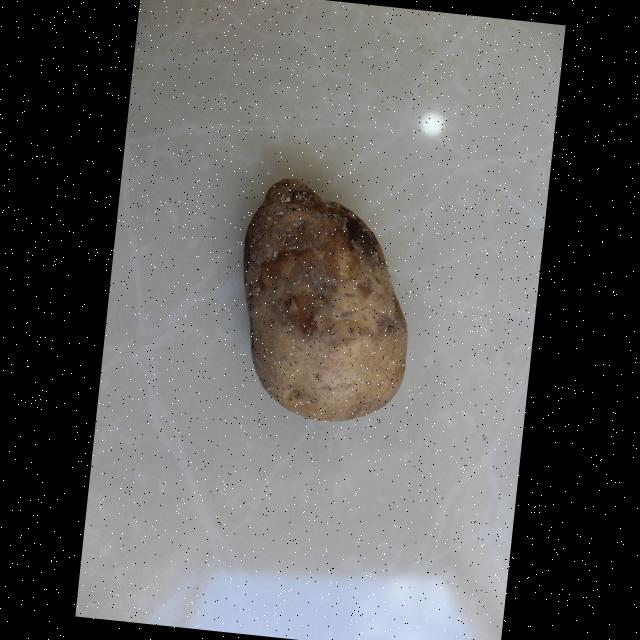Diseased-fungal potato: (226, 171, 424, 428)
